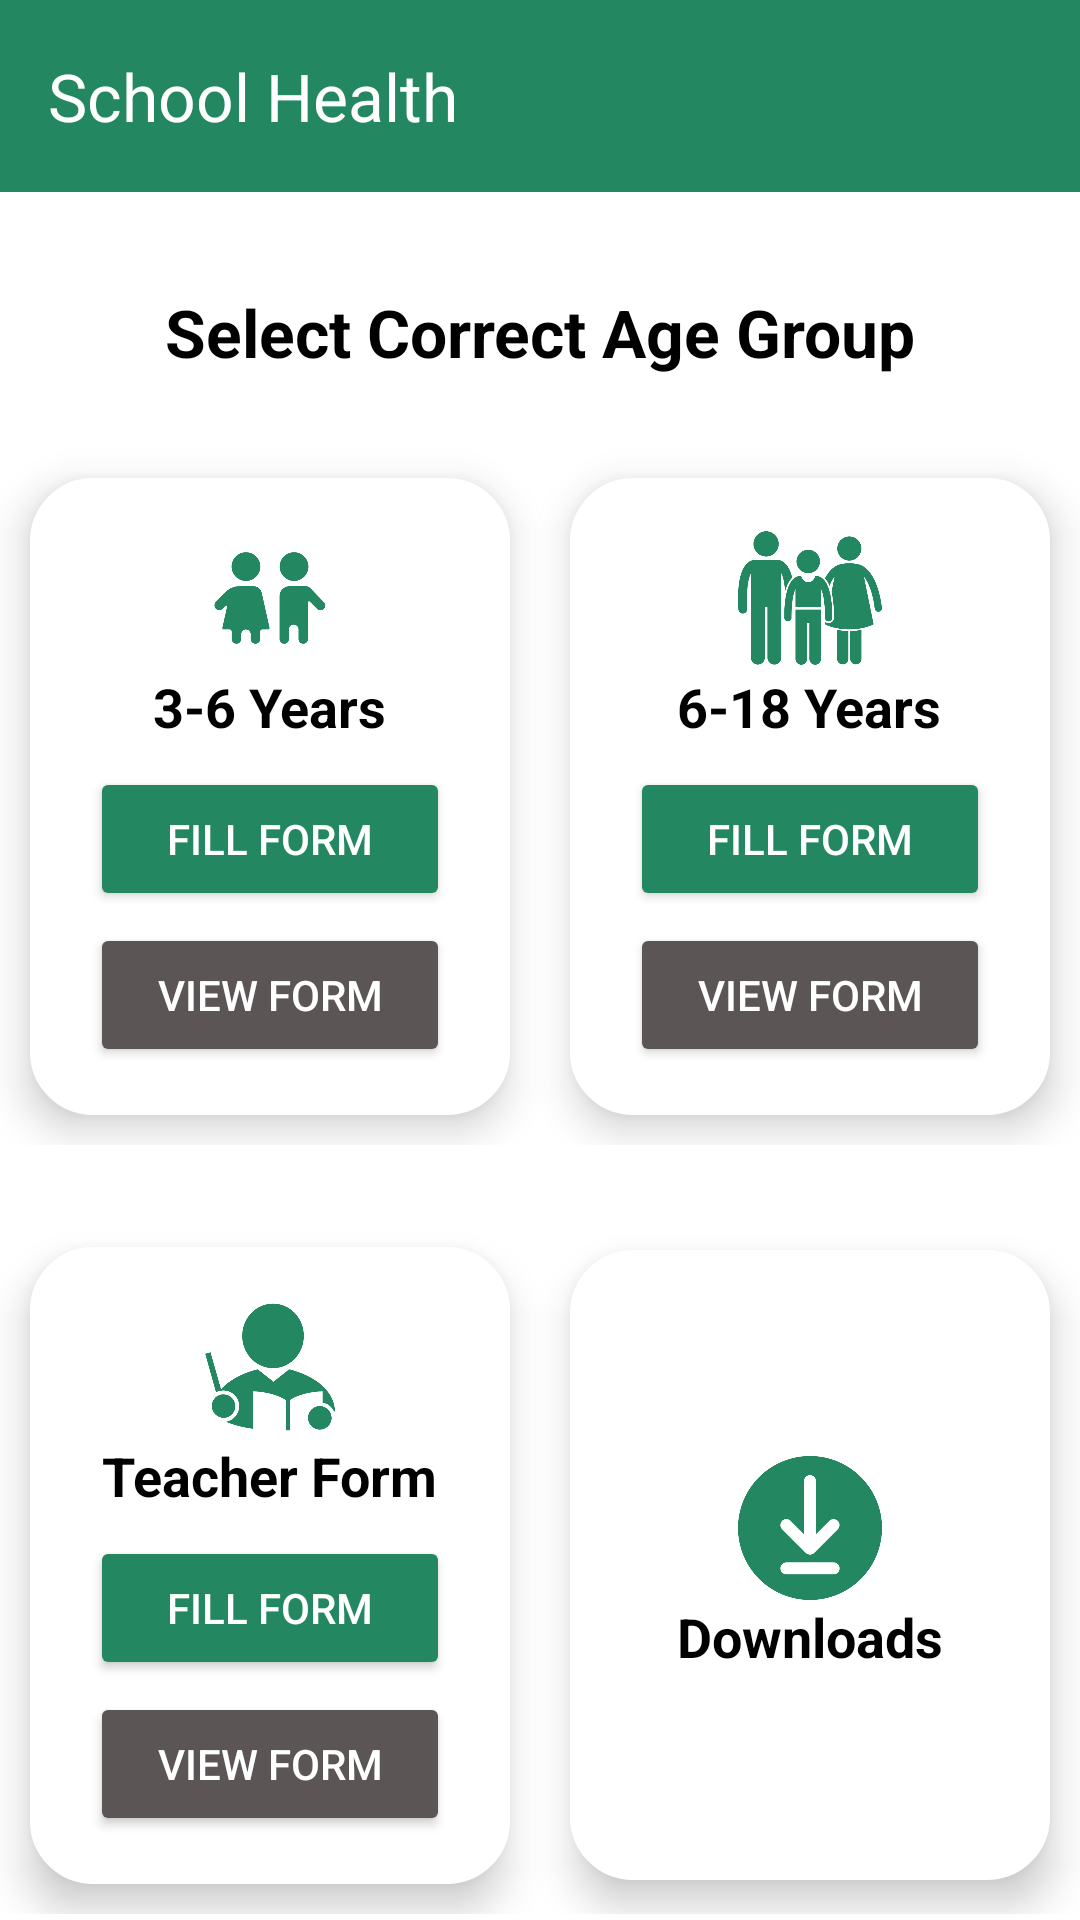

Where icons sit on this 1080*1920 app screen, as (x1=x1, y1=y1, x2=x2, y2=y2):
kids: (x1=214, y1=552, x2=325, y2=644)
